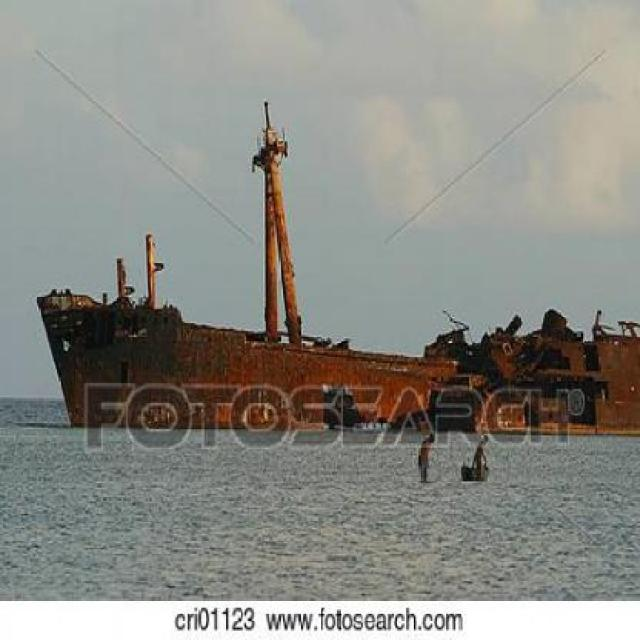corrosion: (35, 122, 640, 432)
